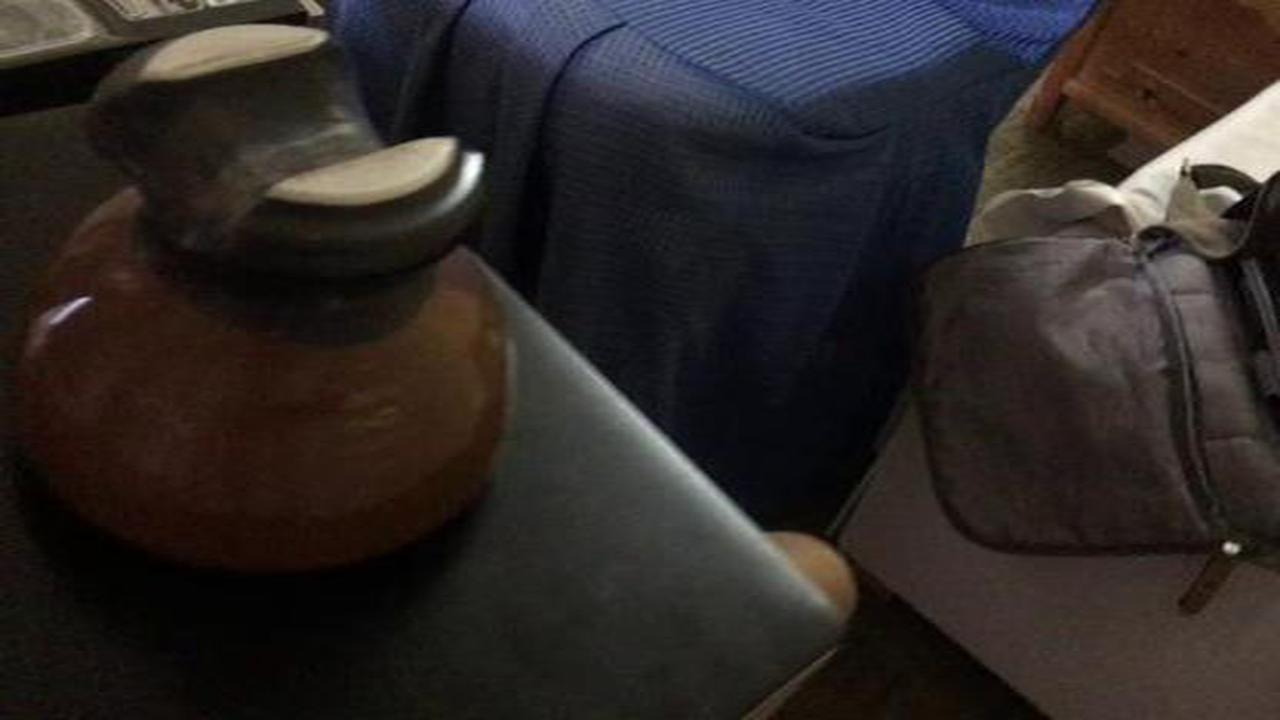insulator_pin: (13, 14, 542, 599)
